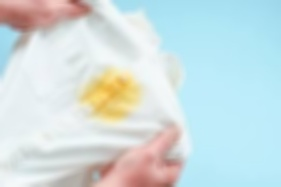mustard: (86, 75, 135, 113)
